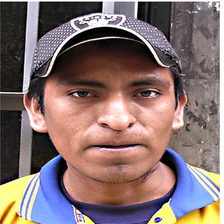no_mask: (41, 72, 178, 181)
